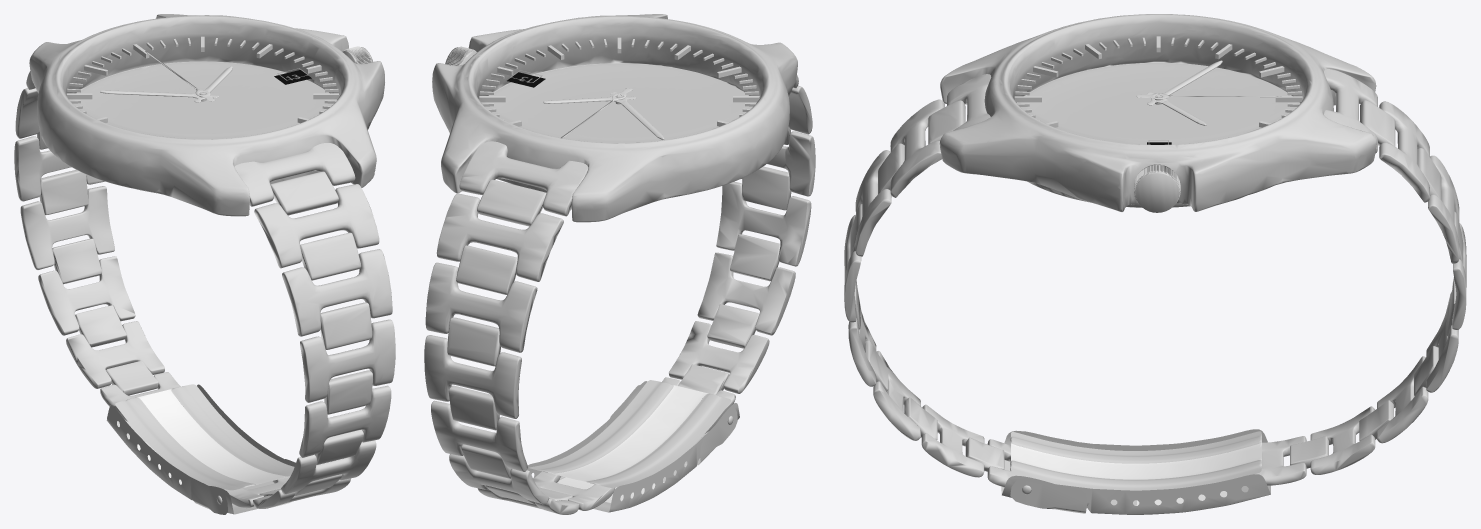
3 views of the same model, side by side, from view 1: azimuth 30°, elevation 25°; view 2: azimuth 150°, elevation 25°; view 3: azimuth 270°, elevation 25° (orthographic). The views are drawn at different scales.
Parts seen in each view (by area): view 1: Object_6, Object_41, Object_23; view 2: Object_6, Object_41, Object_23; view 3: Object_6, Object_41, Object_23.
Part boxes in pixels (left/top/right/bottom): Object_6: left=14, top=14, right=395, bottom=514; Object_41: left=137, top=389, right=288, bottom=484; Object_23: left=66, top=36, right=339, bottom=123; Object_6: left=424, top=14, right=815, bottom=514; Object_41: left=552, top=385, right=708, bottom=482; Object_23: left=479, top=37, right=759, bottom=139; Object_6: left=844, top=14, right=1466, bottom=514; Object_41: left=1011, top=442, right=1261, bottom=479; Object_23: left=1014, top=36, right=1302, bottom=140.
Size of the model in its own units: 2.29 by 2.79 by 3.79.
9 materials, 2 textured.
